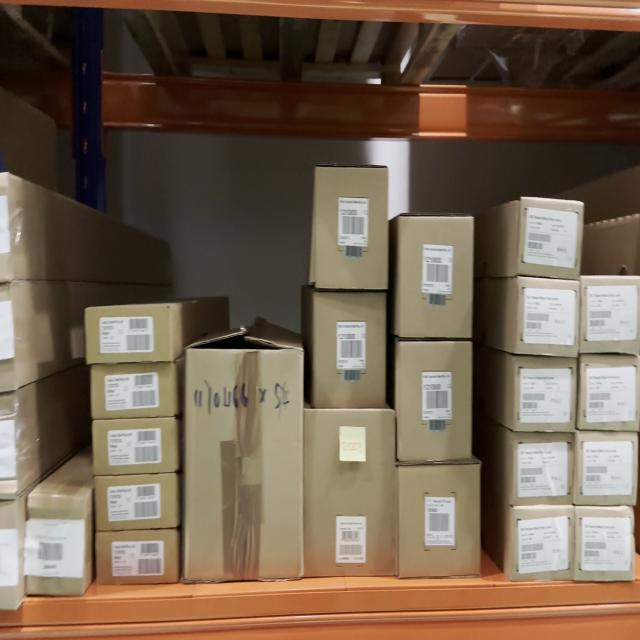box: (188, 342, 303, 576), (397, 213, 476, 341), (397, 462, 482, 575), (395, 341, 473, 458), (311, 289, 389, 401), (316, 163, 386, 287), (29, 499, 85, 597), (519, 200, 586, 279), (513, 504, 577, 582), (84, 309, 174, 362), (520, 274, 578, 356), (580, 360, 640, 436), (93, 477, 178, 529), (516, 360, 578, 431), (514, 437, 578, 505), (93, 529, 180, 579), (91, 368, 178, 417), (92, 421, 177, 471), (580, 280, 640, 350), (580, 431, 640, 499), (579, 507, 635, 579), (26, 544, 30, 550)
